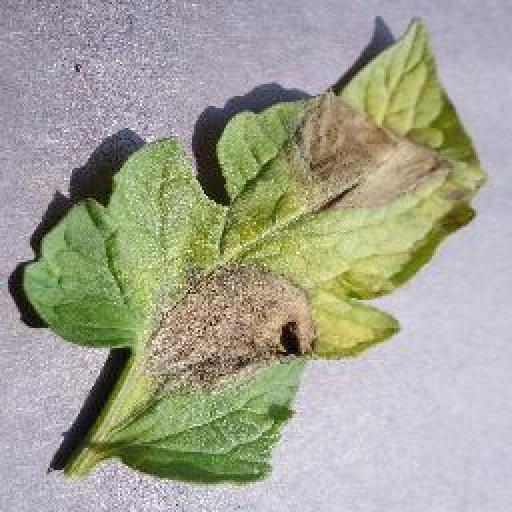disease_tomato: (20, 9, 484, 487)
